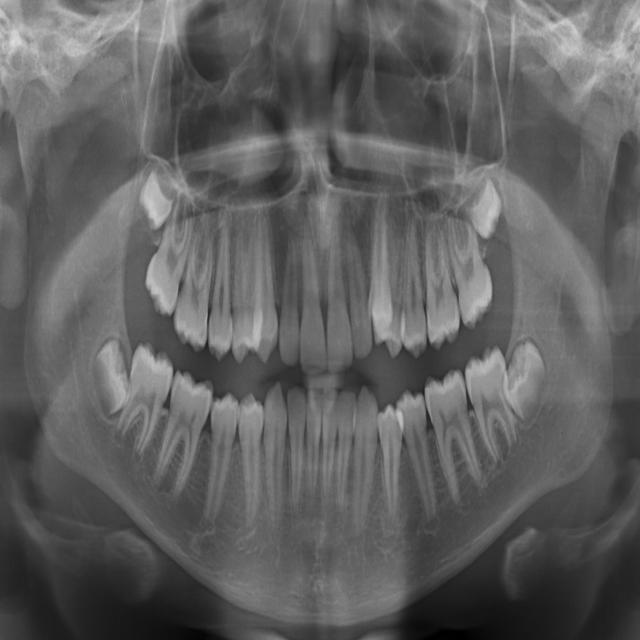3M ESPE Implant: (129, 157, 183, 233)
AGS Medikal Implant: (340, 214, 374, 361)
AMerOss Implant: (366, 185, 392, 347)
Amalgam filling: (383, 220, 404, 359)
Anthogyr Implant: (403, 209, 427, 359)
Bicon Implant: (419, 221, 461, 351)
BioHorizons Implant: (475, 229, 475, 230)
BioLife Implant: (461, 169, 512, 242)
Biomet 3i Implant: (503, 338, 554, 427)
Blue Sky Bio Implant: (458, 343, 525, 471)
Camlog Implant: (418, 366, 488, 508)
Caries: (167, 219, 167, 220)
Composite filling: (394, 386, 441, 535)
Cowellmedi Implant: (375, 403, 411, 529)
Crown: (351, 384, 378, 539)
DENTSPLY Implant: (333, 388, 356, 520)
Dentatus Implant: (317, 384, 338, 515)
Dentium Implant: (284, 384, 305, 520)
Euroteknika Implant: (262, 380, 287, 539)
Filling: (232, 390, 264, 537)
Frontier Implant: (195, 389, 240, 537)
Hiossen Implant: (177, 261, 189, 292)
Implant: (121, 409, 121, 411)
Implant Direct: (147, 367, 217, 506)
Keystone Dental Implant: (88, 337, 134, 418)
MIS Implant: (207, 334, 208, 337)
Mandible: (230, 223, 252, 364)
Maxilla: (251, 197, 278, 364)
Megagen Implant: (277, 226, 304, 368)
Neodent Implant: (298, 217, 326, 376)
Neoss Implant: (325, 215, 358, 375)
